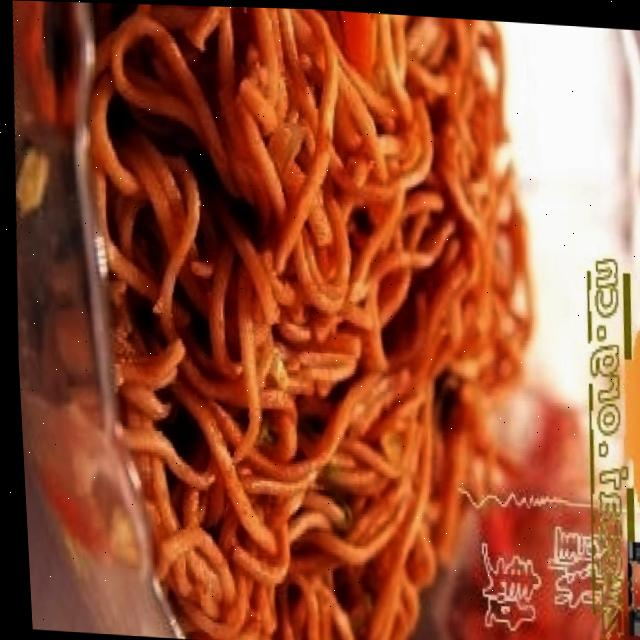面条主食: (20, 0, 596, 640)
